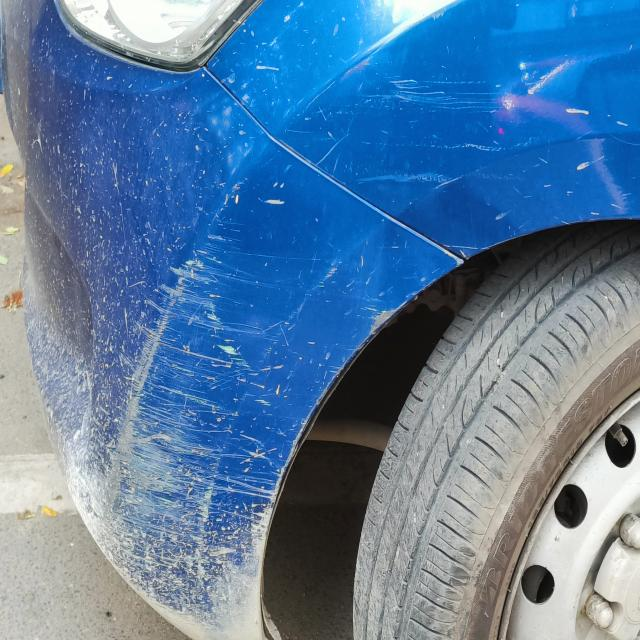scratch: (110, 159, 286, 640), (239, 268, 427, 354), (376, 66, 512, 115), (350, 129, 539, 159), (337, 235, 525, 265), (352, 165, 540, 194)
